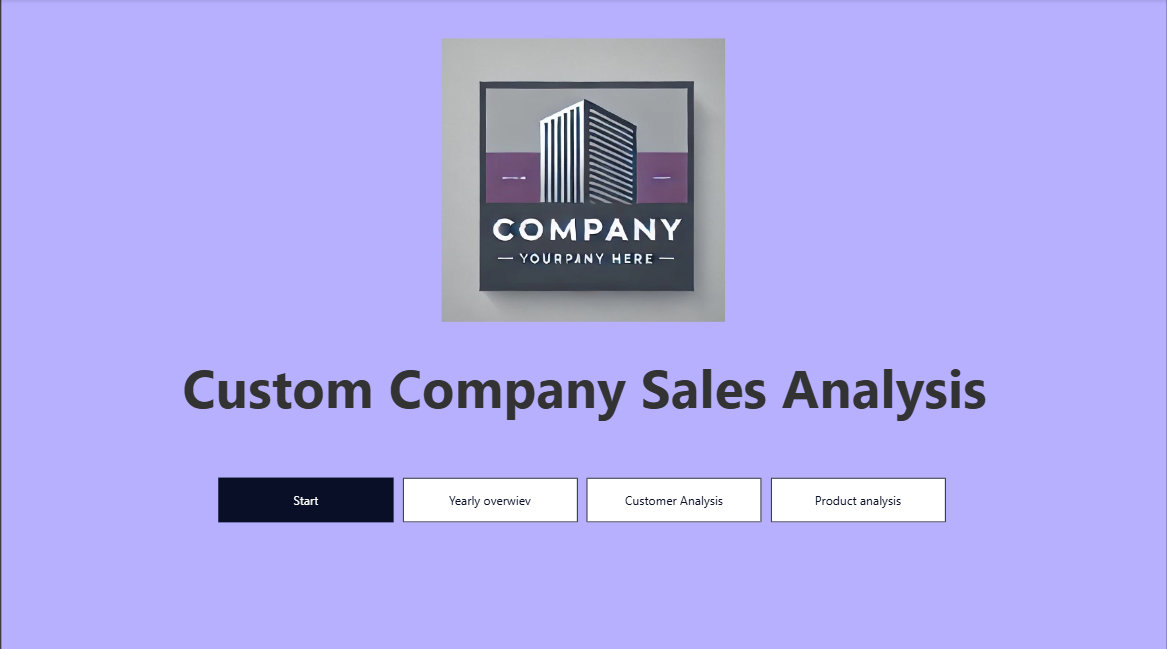

Layout of this report page (visuals, bound fields, positions):
{"tool":"powerbi","page":{"name":"Start","canvas":[1280,720],"ordinal":0},"visuals":[{"type":"shape","box":[0,0,1280,719.8],"z":0},{"type":"image","box":[479.5,38.9,321,321],"z":1000},{"type":"textbox","box":[135.2,381.3,1009.6,98.2],"z":2000},{"type":"pageNavigator","box":[239.3,526.2,800.5,49.6],"z":3000}]}

Visuals, with their boxes in screenshot pixels (x1, y1, x2, y2), scaled from the page's 1280x720 canvas onto the 1167x649 screenshot:
shape: 0 0 1166 648
image: 437 35 730 324
textbox: 123 344 1044 432
pageNavigator: 218 474 948 519
